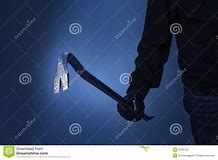crowbar: (52, 49, 155, 124)
